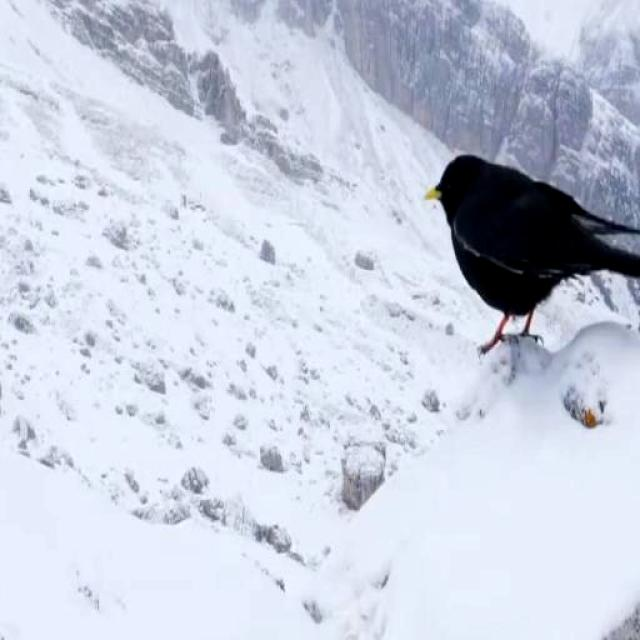airplane: (414, 140, 640, 369)
